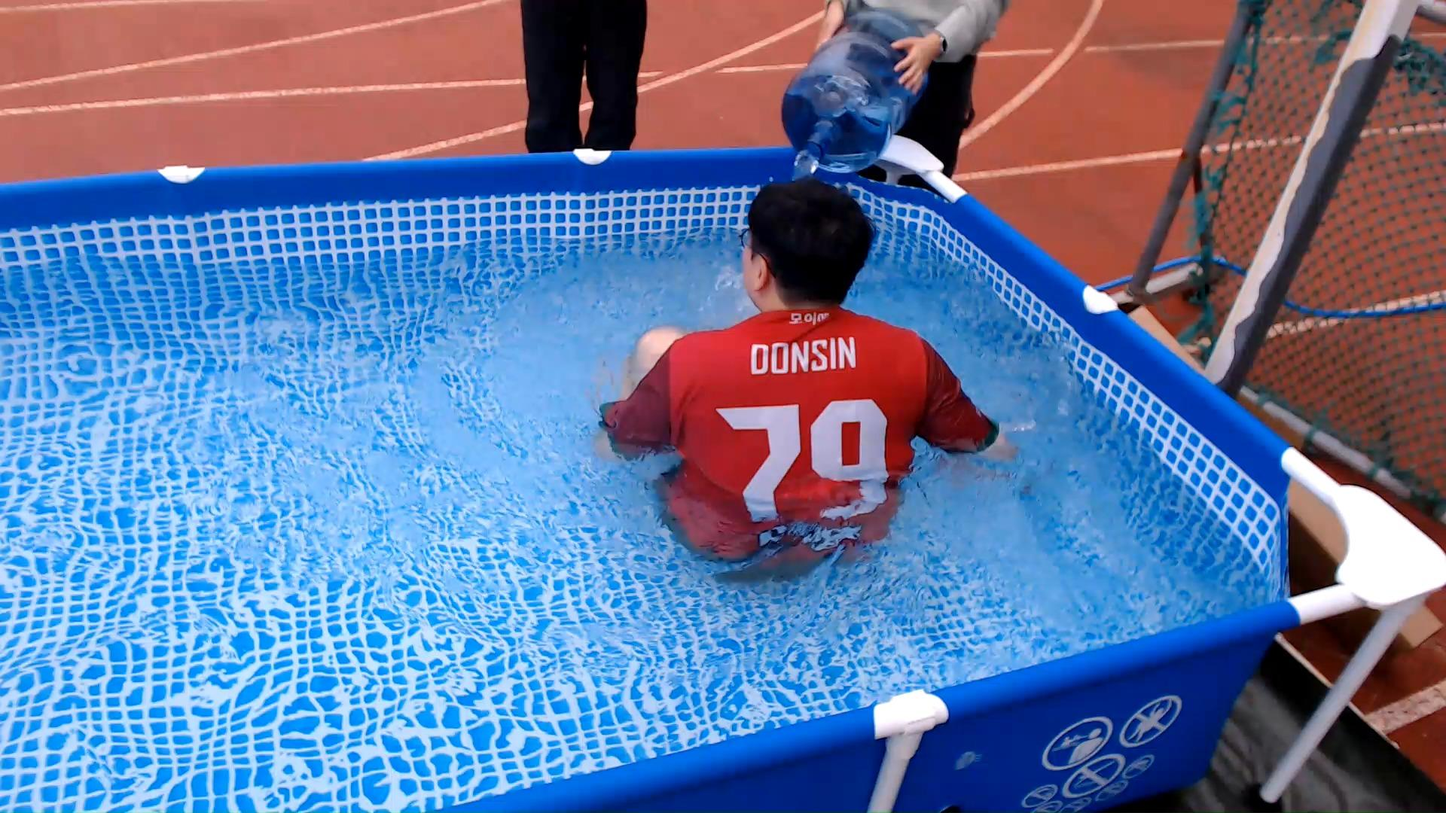Swimming: (537, 158, 1050, 593)
